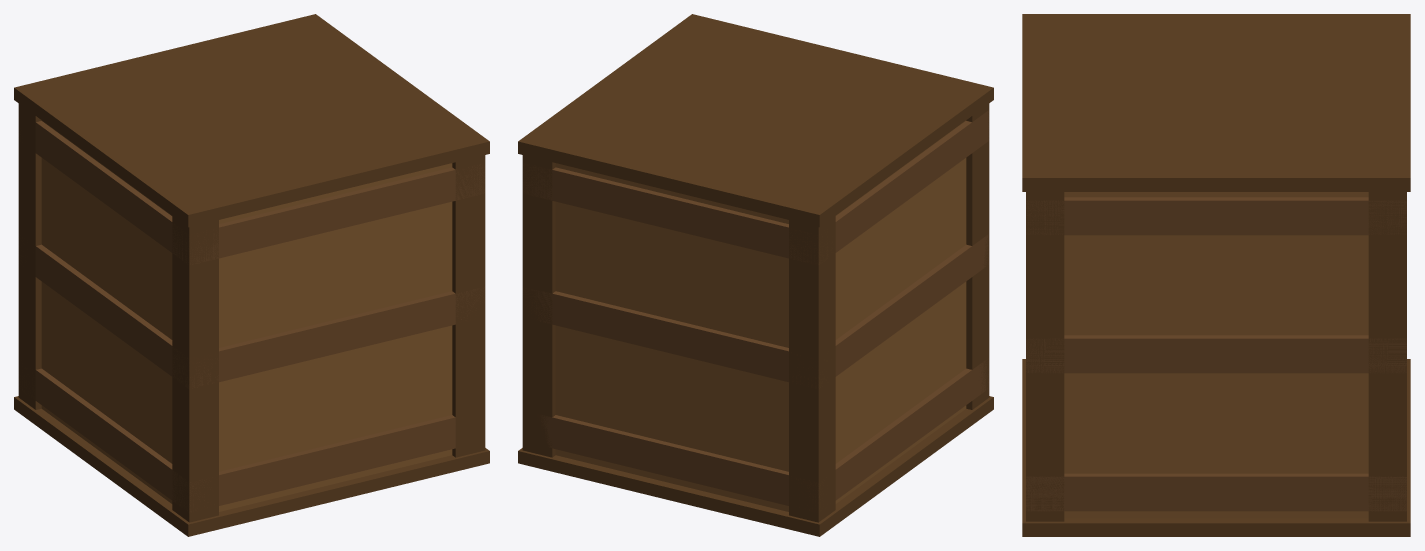
Rendered from desktop.glb.
3 renders of one model, left to right at view 1: azimuth 30°, elevation 25°; view 2: azimuth 150°, elevation 25°; view 3: azimuth 270°, elevation 25°, orthographic. The views are drawn at different scales.
Parts seen in each view (by area): view 1: crate; view 2: crate; view 3: crate.
Boxes of the visible parts, x1,y1,x2,y2 form: crate: (14,14,489,536); crate: (518,14,993,536); crate: (1022,14,1410,536).
Size of the model in its own units: 1.02 by 1.04 by 1.02.
